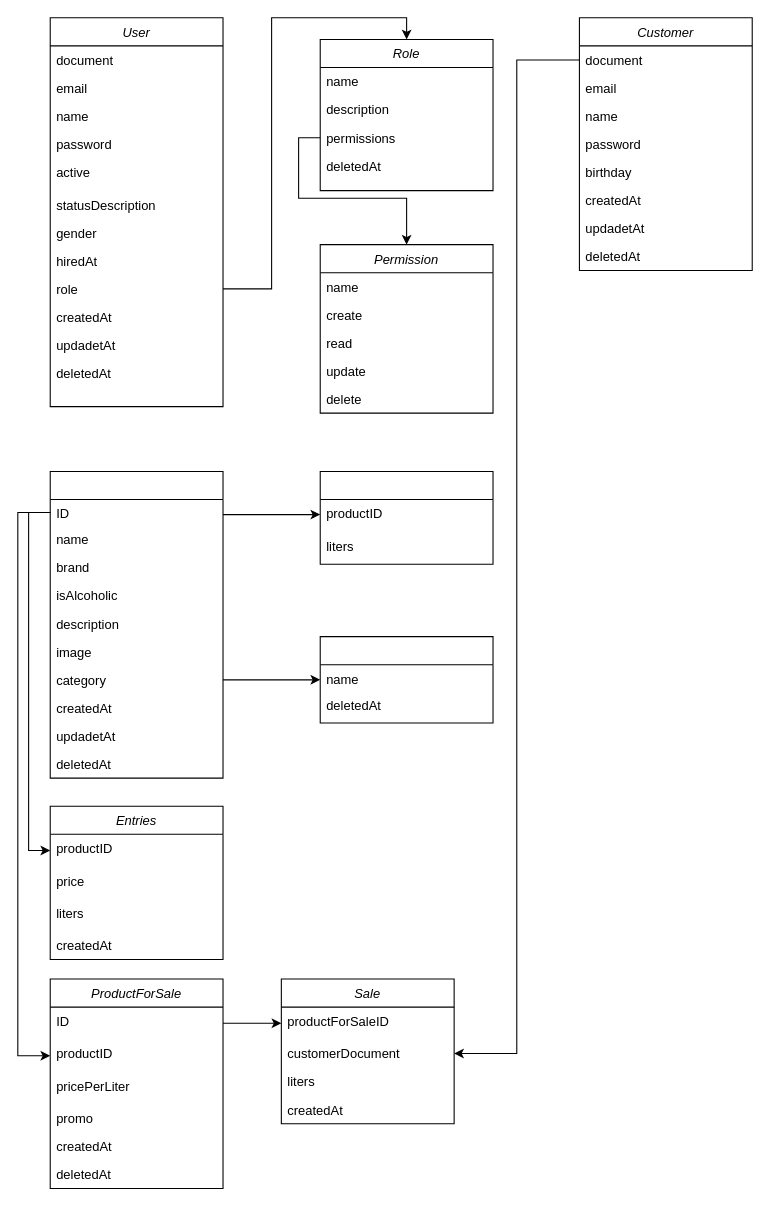
This 770x1206 diagram has some shape labels left out. Each missing label, with the box of its shape:
Product: (49, 470, 223, 778)
ProductCategory: (319, 636, 493, 723)
Storage: (319, 470, 493, 564)
